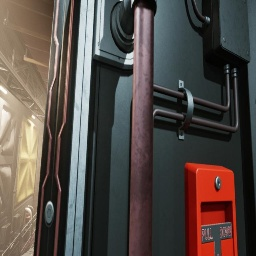FireAlarm ,: (184, 162, 237, 256)
NitrogenTank ,: (23, 213, 30, 242)
